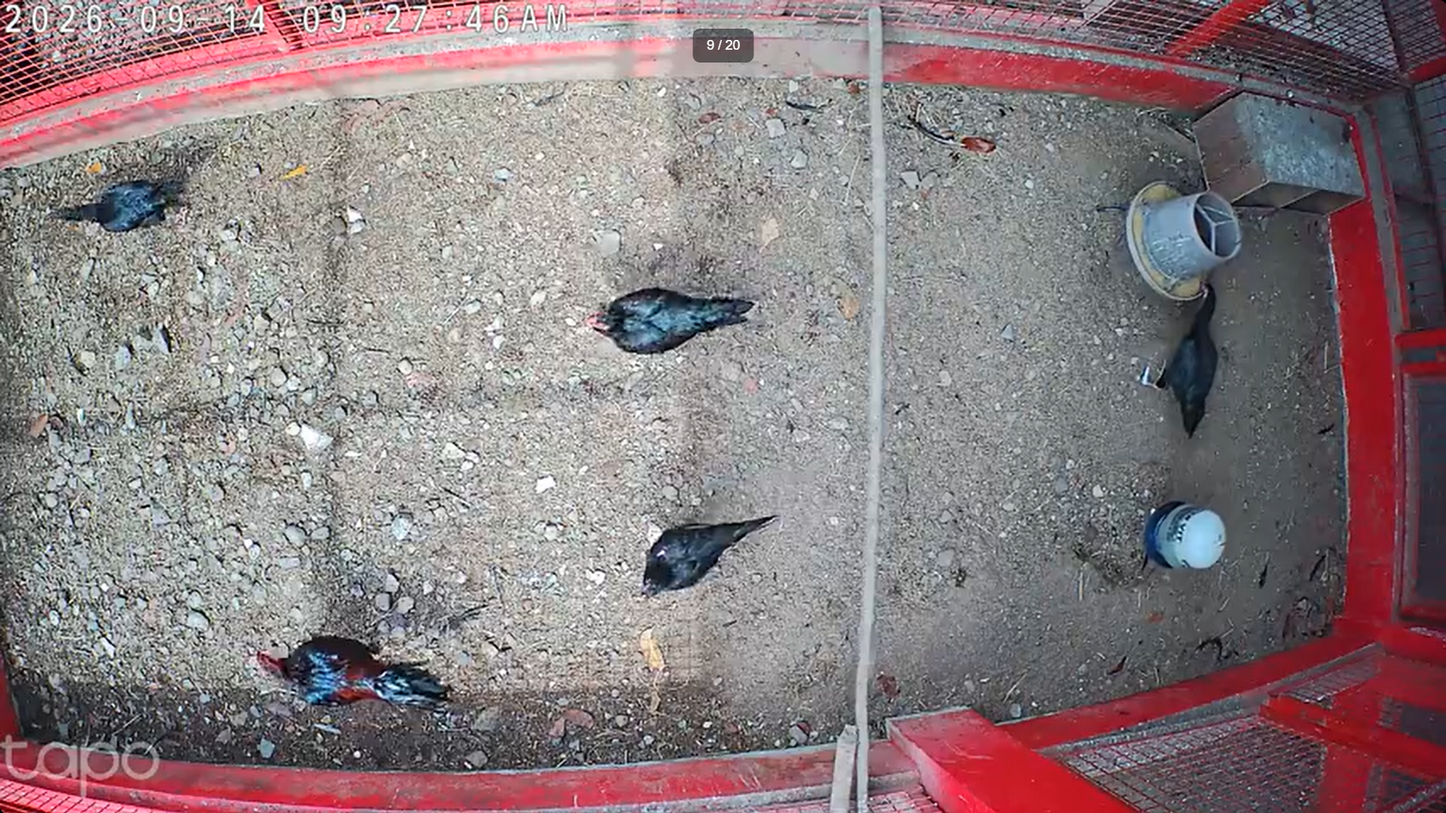Chicken: (1130, 277, 1218, 440), (587, 285, 757, 363)
Leg_Band_White: (1139, 360, 1151, 387)
